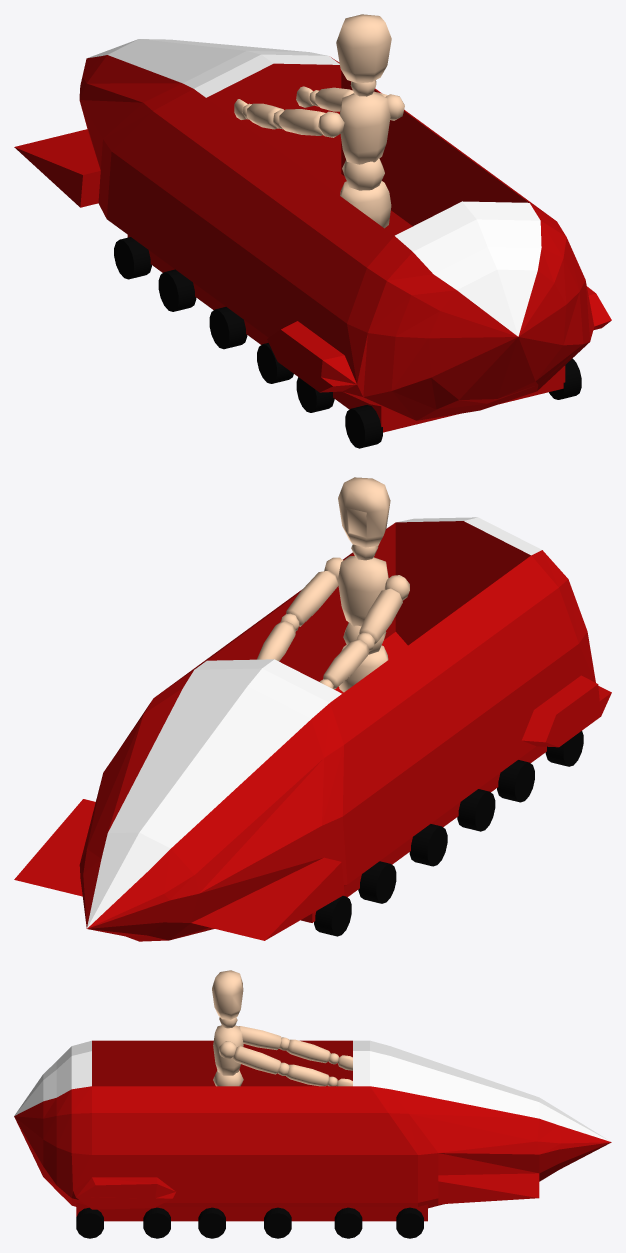
The model's file is bobslee.fbx.
3 views of the same model, one above another, from view 1: azimuth 30°, elevation 25°; view 2: azimuth 150°, elevation 25°; view 3: azimuth 270°, elevation 25° (orthographic). The views are drawn at different scales.
Parts seen in each view (by area): view 1: Cylinder, Figure_1, Cube_1, Cylinder_1, Cylinder_5, Cylinder_4, Cylinder_6, Cylinder_3, Cylinder_2; view 2: Cylinder, Figure_1, Cube_1, Cylinder_3, Cylinder_4, Cylinder_5, Cylinder_2, Cylinder_6, Cylinder_1; view 3: Cylinder, Figure_1, Cube_1, Cylinder_5, Cylinder_6, Cylinder_4, Cylinder_3, Cylinder_2, Cylinder_1.
Boxes of the visible parts, x1=… form: Cylinder: x1=14, y1=39, x2=611, y2=420; Figure_1: x1=234, y1=14, x2=404, y2=228; Cube_1: x1=127, y1=235, x2=565, y2=432; Cylinder_1: x1=345, y1=358, x2=581, y2=448; Cylinder_5: x1=158, y1=269, x2=196, y2=311; Cylinder_4: x1=209, y1=307, x2=247, y2=349; Cylinder_6: x1=114, y1=237, x2=151, y2=279; Cylinder_3: x1=257, y1=343, x2=293, y2=383; Cylinder_2: x1=296, y1=377, x2=334, y2=412; Cylinder: x1=14, y1=517, x2=611, y2=941; Figure_1: x1=257, y1=477, x2=409, y2=692; Cube_1: x1=301, y1=746, x2=546, y2=922; Cylinder_3: x1=457, y1=789, x2=495, y2=831; Cylinder_4: x1=409, y1=824, x2=447, y2=866; Cylinder_5: x1=358, y1=861, x2=396, y2=903; Cylinder_2: x1=497, y1=760, x2=534, y2=802; Cylinder_6: x1=314, y1=896, x2=351, y2=936; Cylinder_1: x1=545, y1=731, x2=583, y2=766; Cylinder: x1=14, y1=1040, x2=611, y2=1209; Figure_1: x1=212, y1=970, x2=352, y2=1086; Cube_1: x1=76, y1=1202, x2=427, y2=1221; Cylinder_5: x1=334, y1=1207, x2=362, y2=1238; Cylinder_6: x1=396, y1=1207, x2=423, y2=1238; Cylinder_4: x1=264, y1=1207, x2=291, y2=1238; Cylinder_3: x1=198, y1=1207, x2=225, y2=1238; Cylinder_2: x1=143, y1=1207, x2=170, y2=1238; Cylinder_1: x1=76, y1=1207, x2=103, y2=1238.
Bounding box in the file's own units: 110 × 124 × 294.
